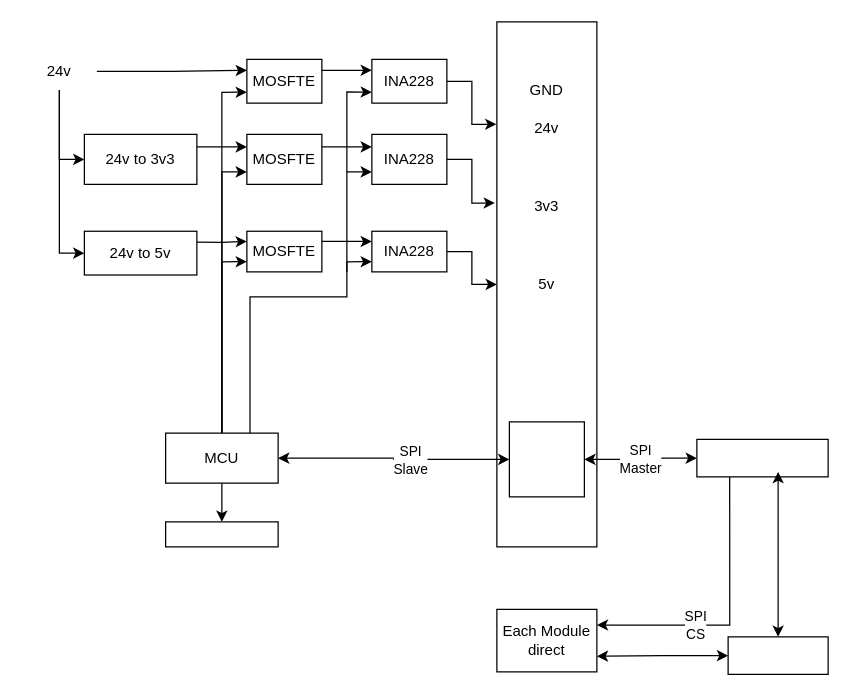
Image size: 850x696. Some labels were removed from this diagram. Here are the shapes that lost their labels. From the top down, the box of each, then its label:
(496, 21, 597, 547): BUS
(508, 421, 584, 497): SPI
(696, 438, 828, 477): Raspberry Pi
(164, 521, 278, 547): Status LEDs
(727, 636, 828, 674): UART MUX
